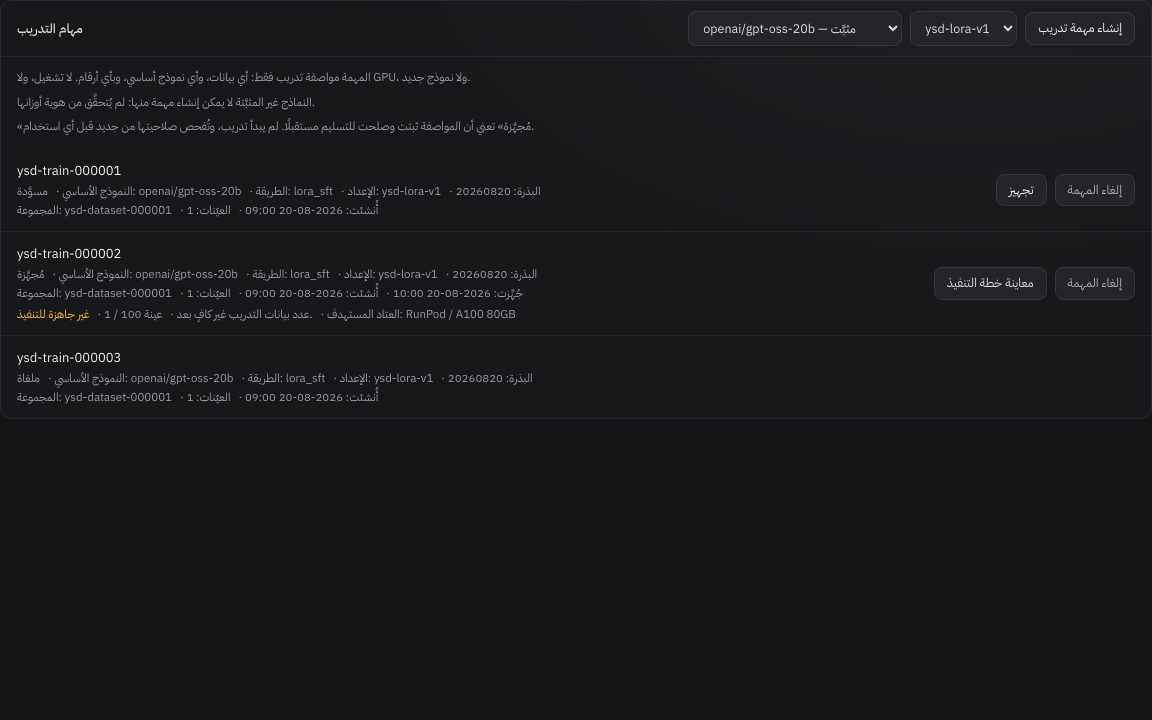
Test: ★ (٢″) الخطّة — قراءةٌ بلا تنفيذ › ★ وتعذّرُ العرض رسالةٌ عامّة
The image size is (1152, 720).
Step 1. Click the button "معاينة خطة التنفيذ" → (990, 284), box [934,267,1047,300]
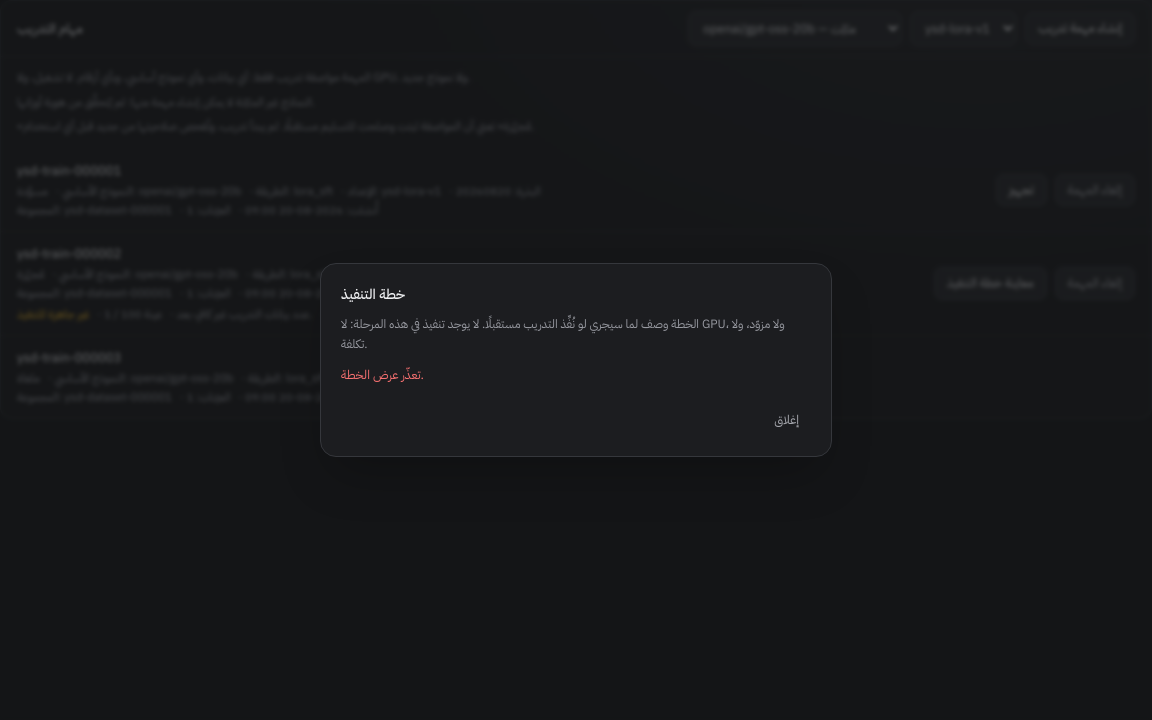
Check: the text "تعذّر عرض الخطة" is shown, box [341,365,424,384]
